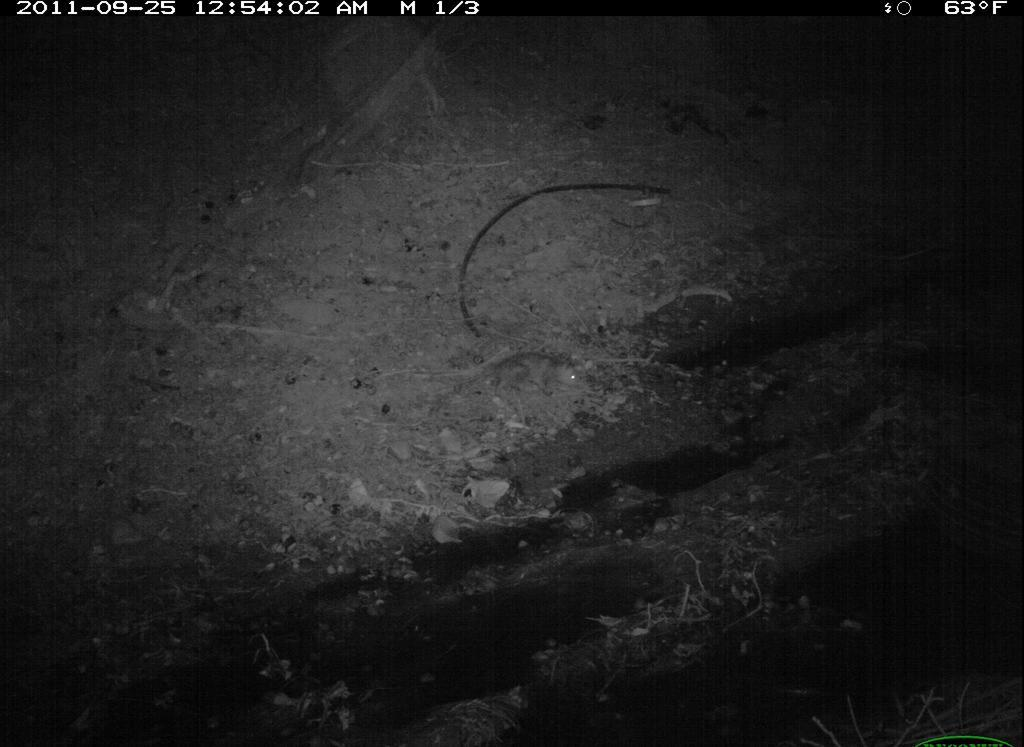opossum: (429, 345, 598, 410)
